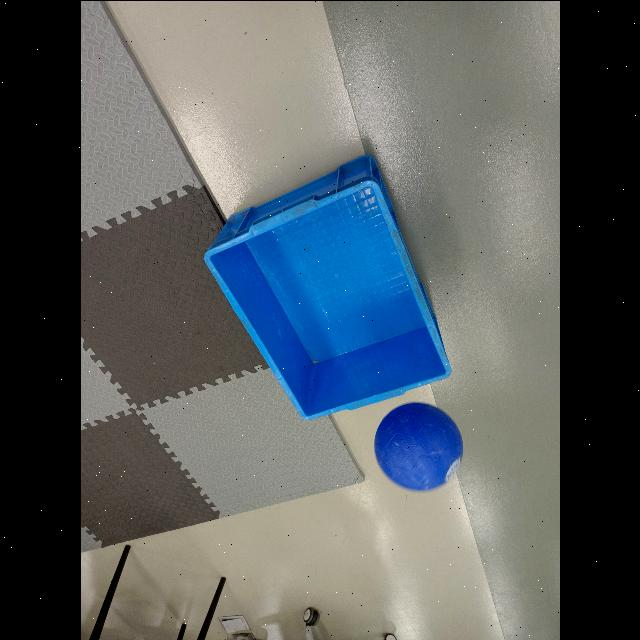B: (371, 404, 469, 488)
